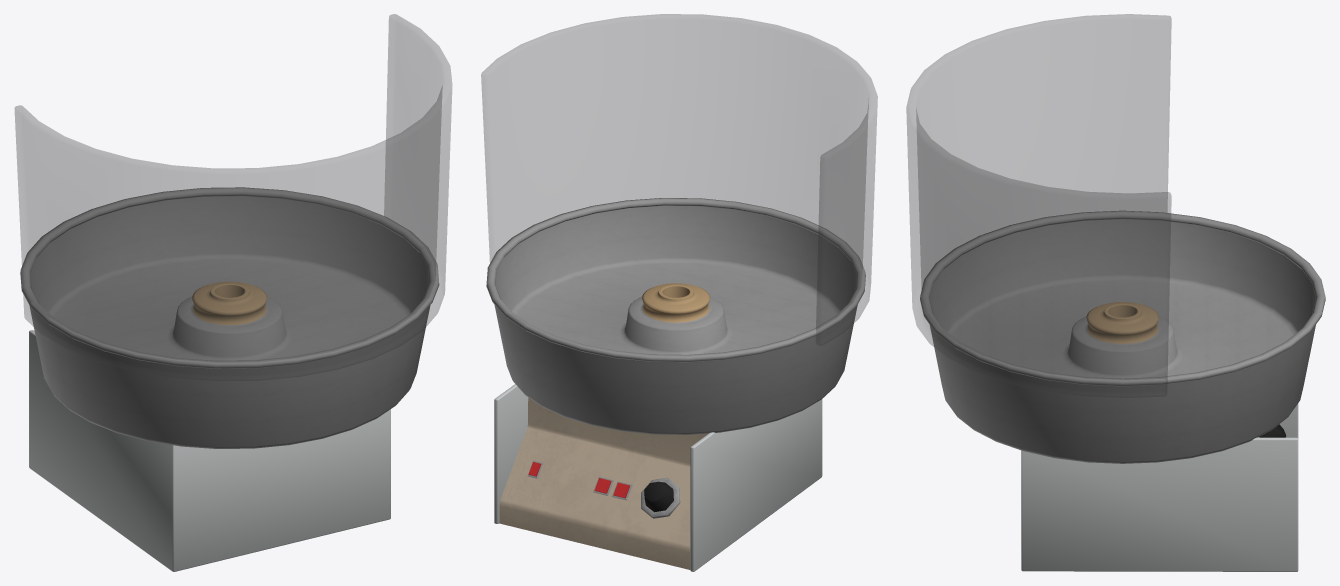
Rendered from StallProp_C.fbx.
3 renders of one model, left to right at view 1: azimuth 30°, elevation 25°; view 2: azimuth 150°, elevation 25°; view 3: azimuth 270°, elevation 25°, orthographic. The views are drawn at different scales.
Parts seen in each view (by area): view 1: StallProp_C; view 2: StallProp_C; view 3: StallProp_C.
Boxes of the visible parts, x1=… form: StallProp_C: x1=14, y1=14, x2=452, y2=571; StallProp_C: x1=481, y1=14, x2=877, y2=571; StallProp_C: x1=906, y1=14, x2=1325, y2=571.
Size of the model in its own units: 0.9247 by 0.9765 by 0.8923.
